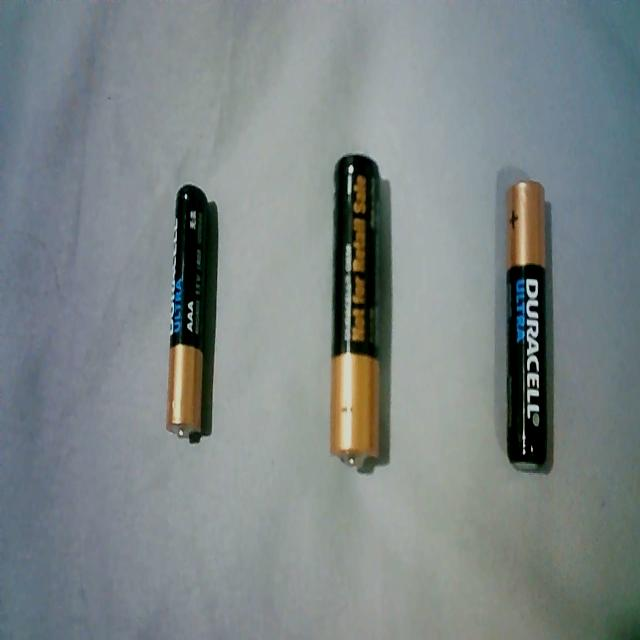AA: (327, 147, 387, 475)
AAA: (502, 171, 552, 479), (163, 180, 214, 452)
